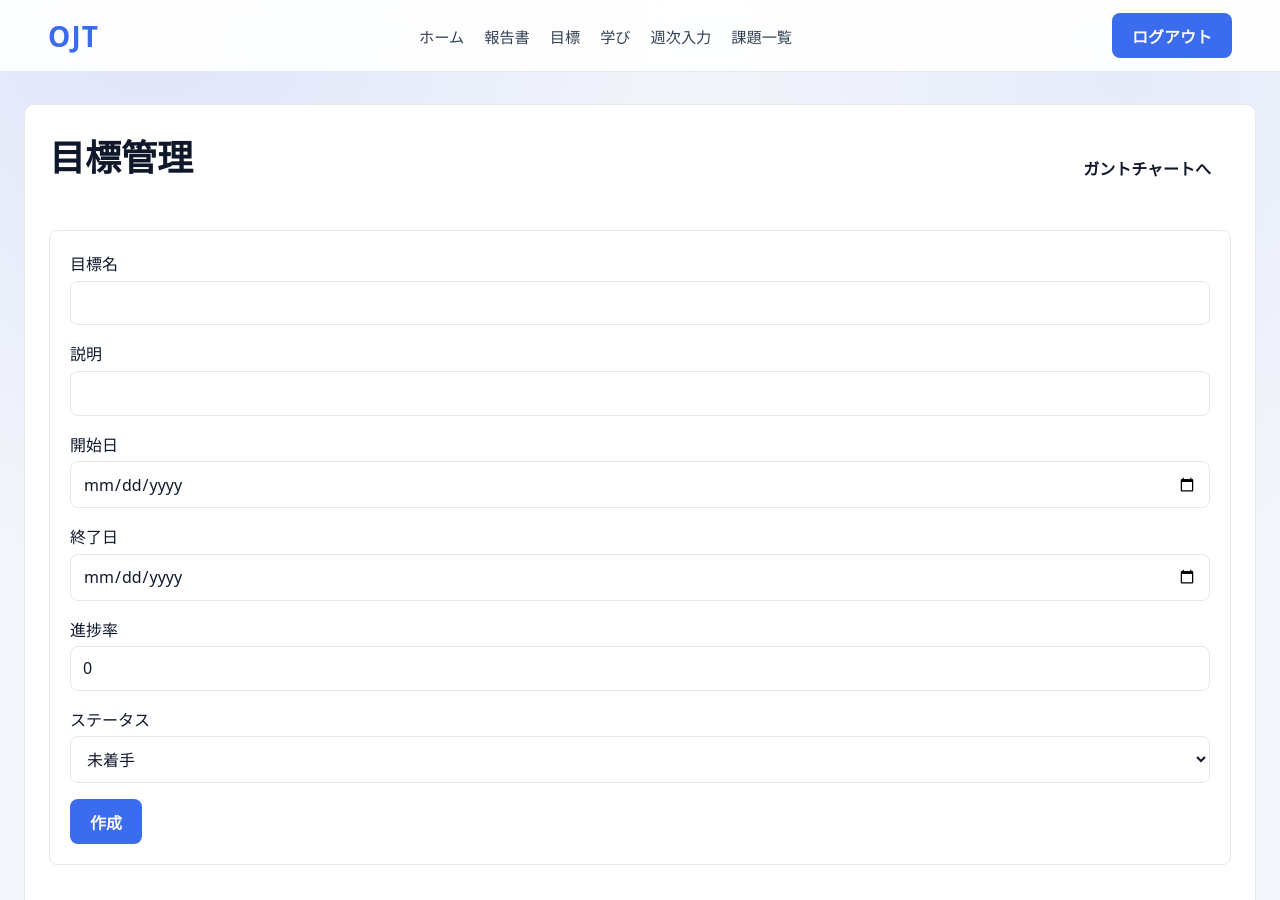
Scenario: 目標 UI › U-G32 新卒の管理画面での作成・変更 UI › 新卒が目標を作成すると成功フィードバックが出る
This screenshot has width=1280, height=900.
Type "新卒作成目標" into the field labelled "目標名".
click(640, 303); type("新卒作成目標")  # box [70, 281, 1210, 325]
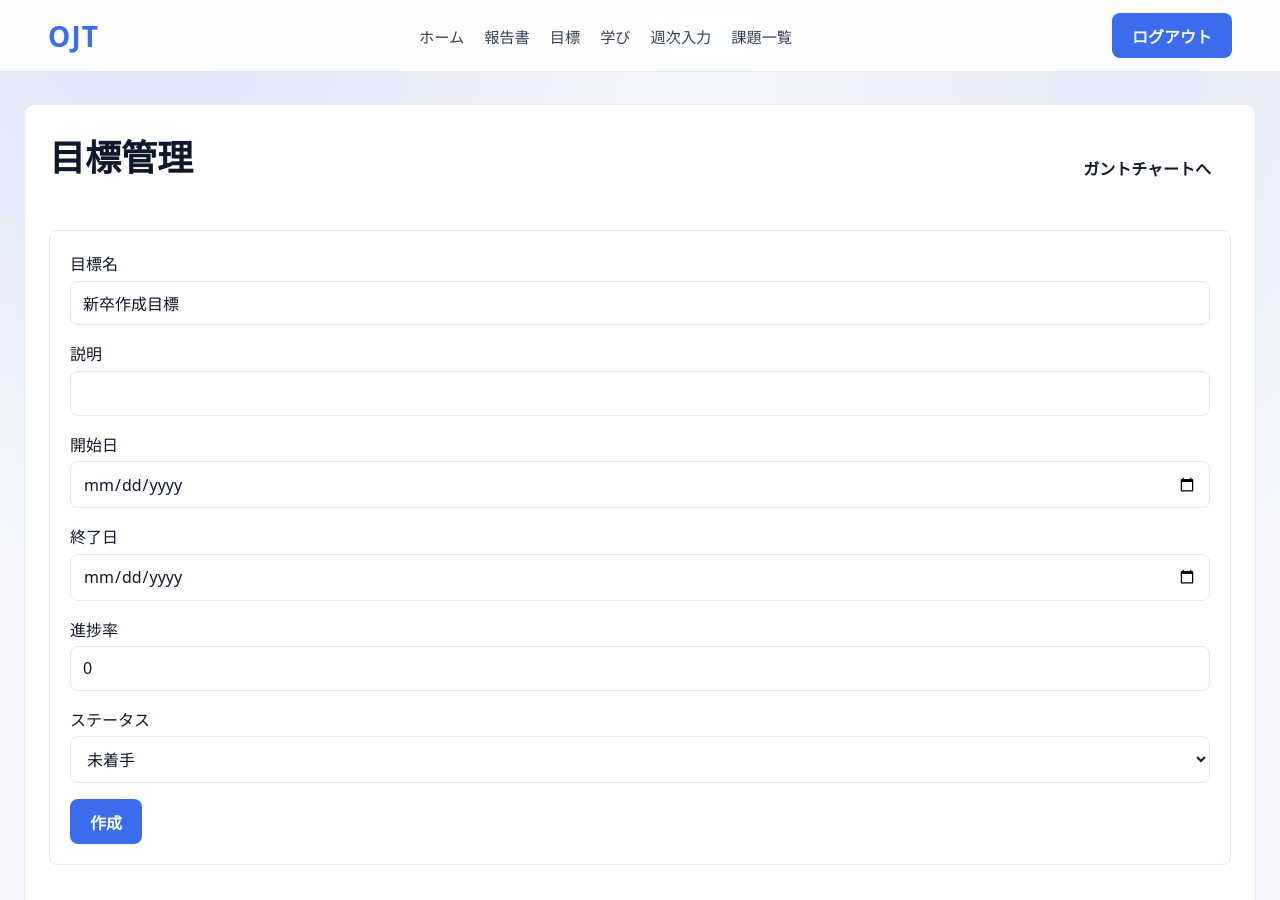
Type "2026-09-01" into the date field labelled "開始日".
click(640, 485); type("2026-09-01")  # box [70, 461, 1210, 508]
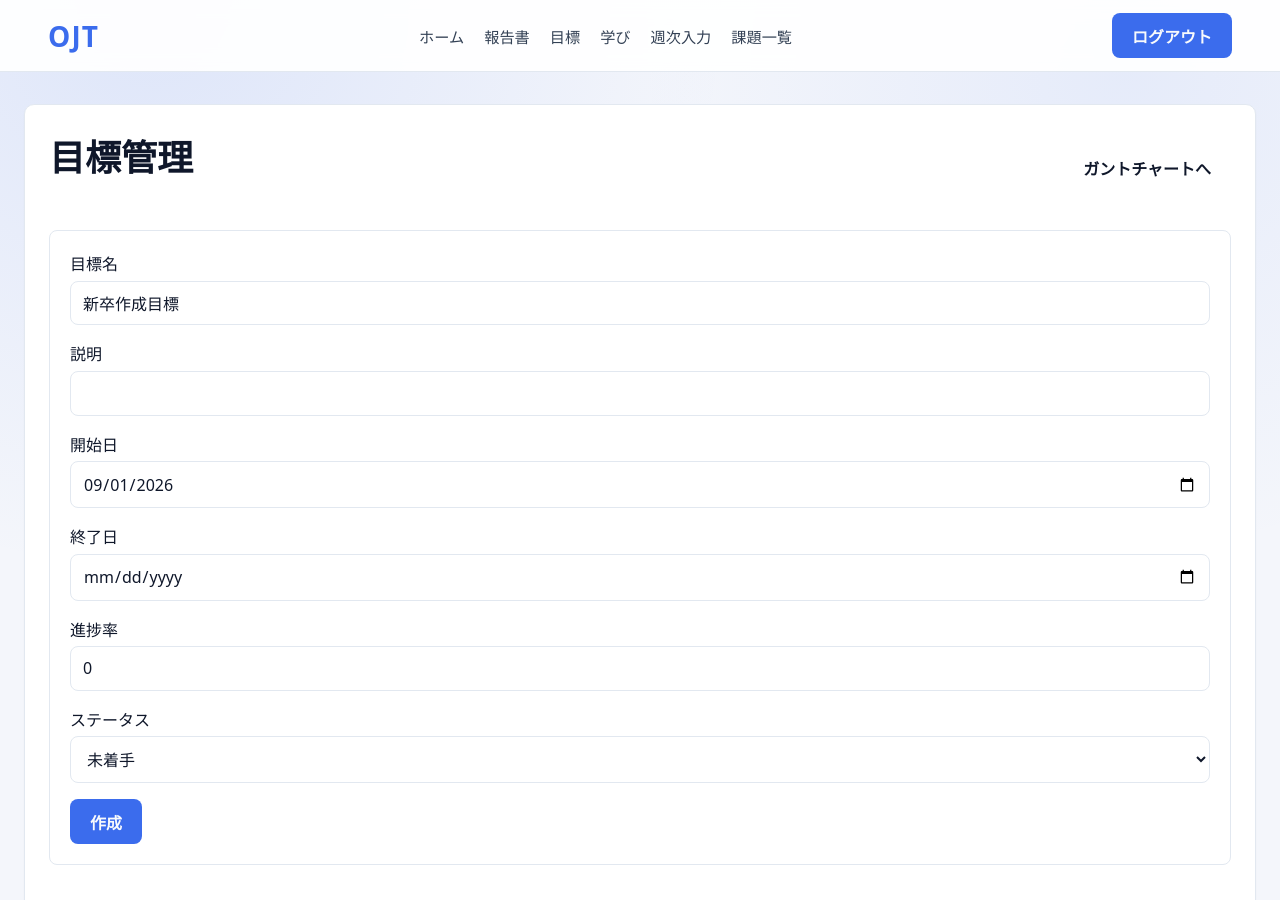
Type "2026-09-05" into the date field labelled "終了日".
click(640, 577); type("2026-09-05")  # box [70, 554, 1210, 600]
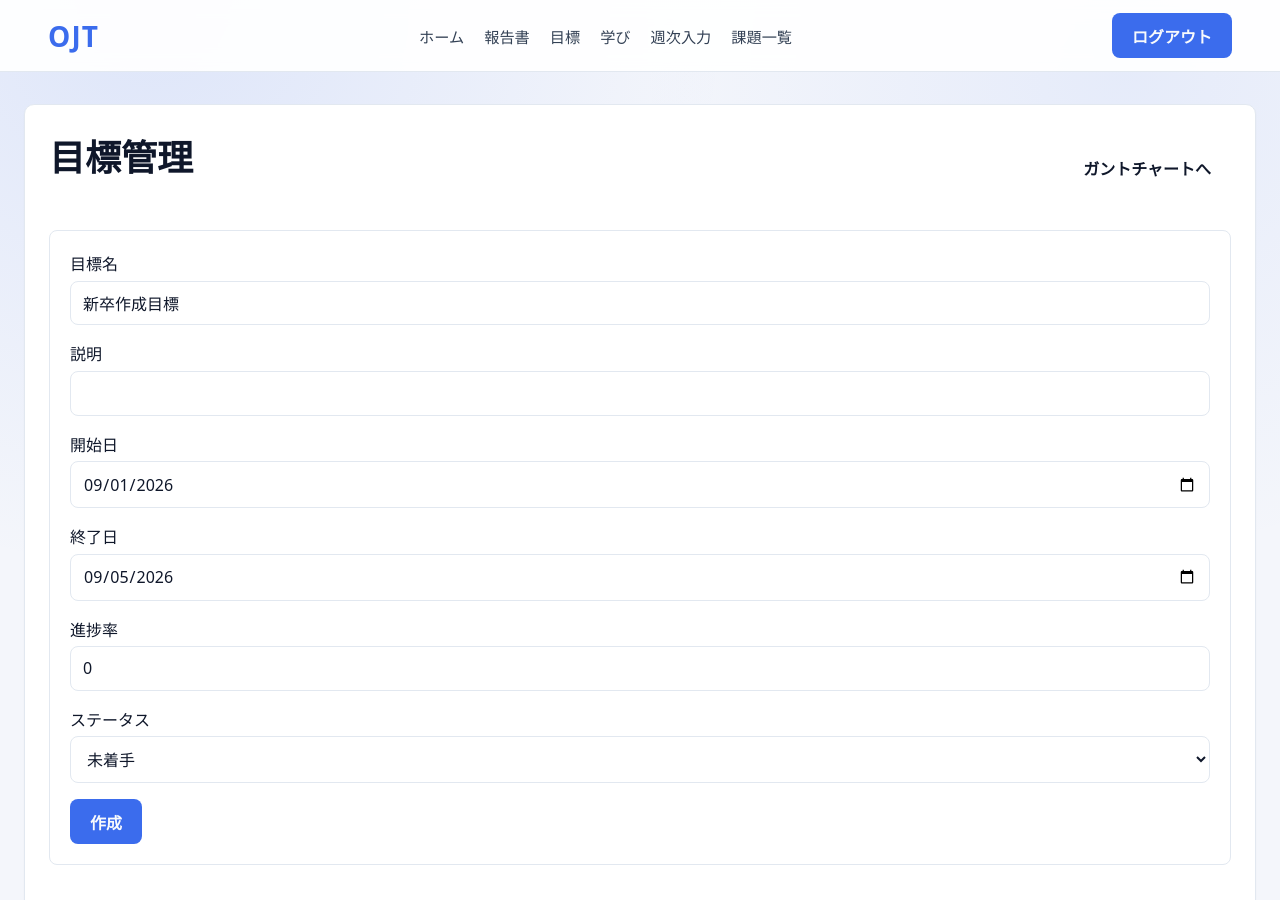
Replace the text in the number field labelled "進捗率" with "40" at (640, 668), box [70, 646, 1210, 691]
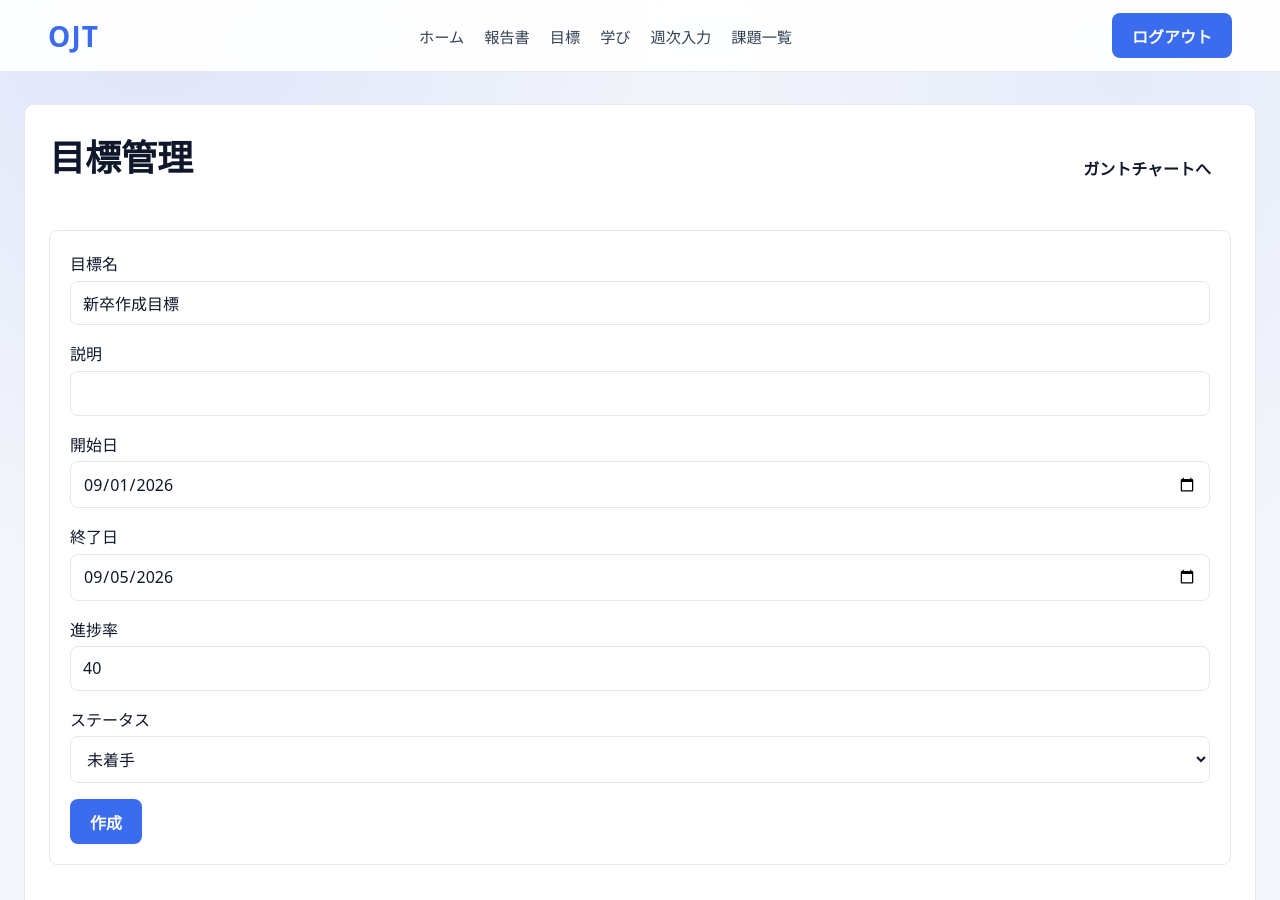
Select "進行中" in the dropdown labelled "ステータス" at (640, 760), box [70, 736, 1210, 783]
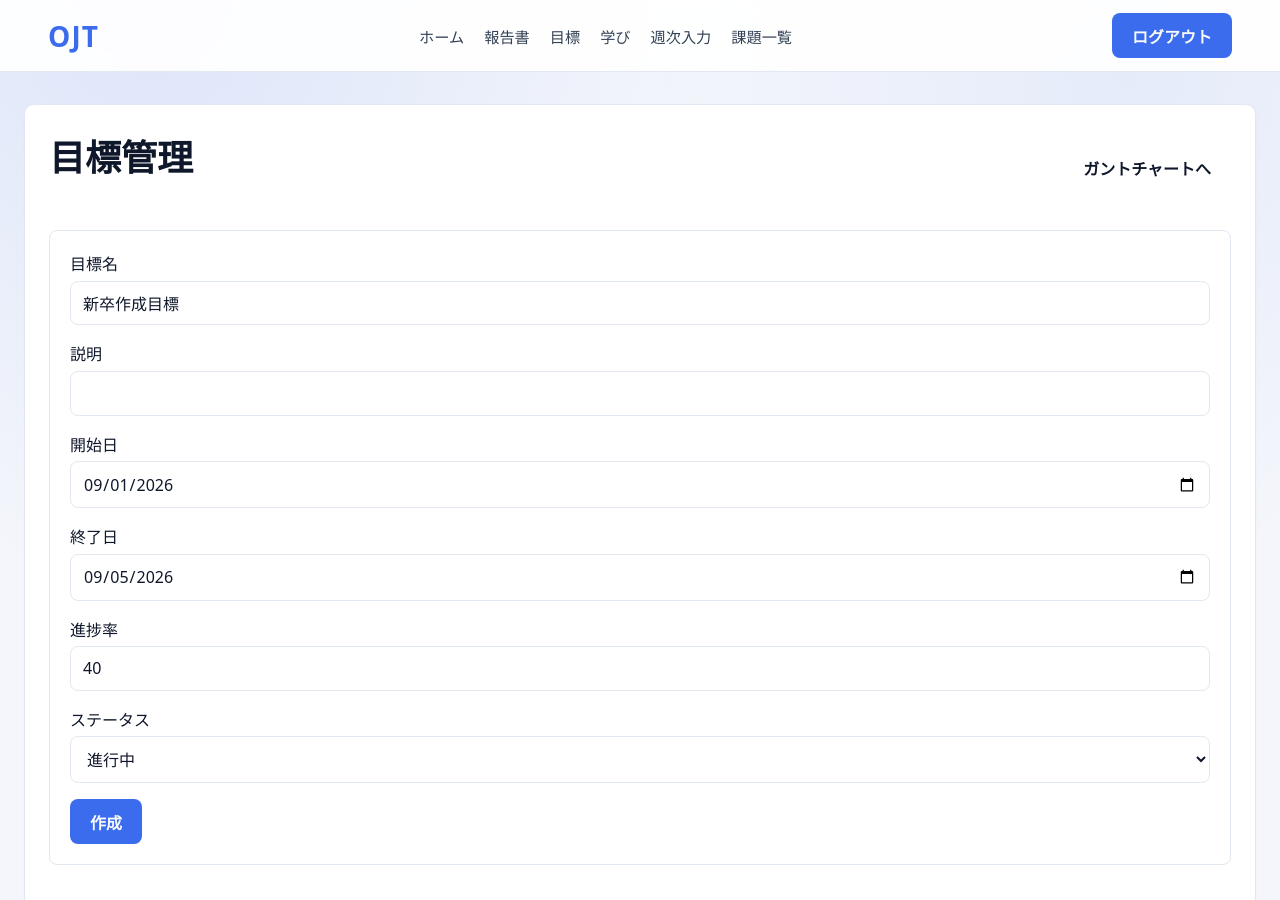
Submit the form named "目標作成"
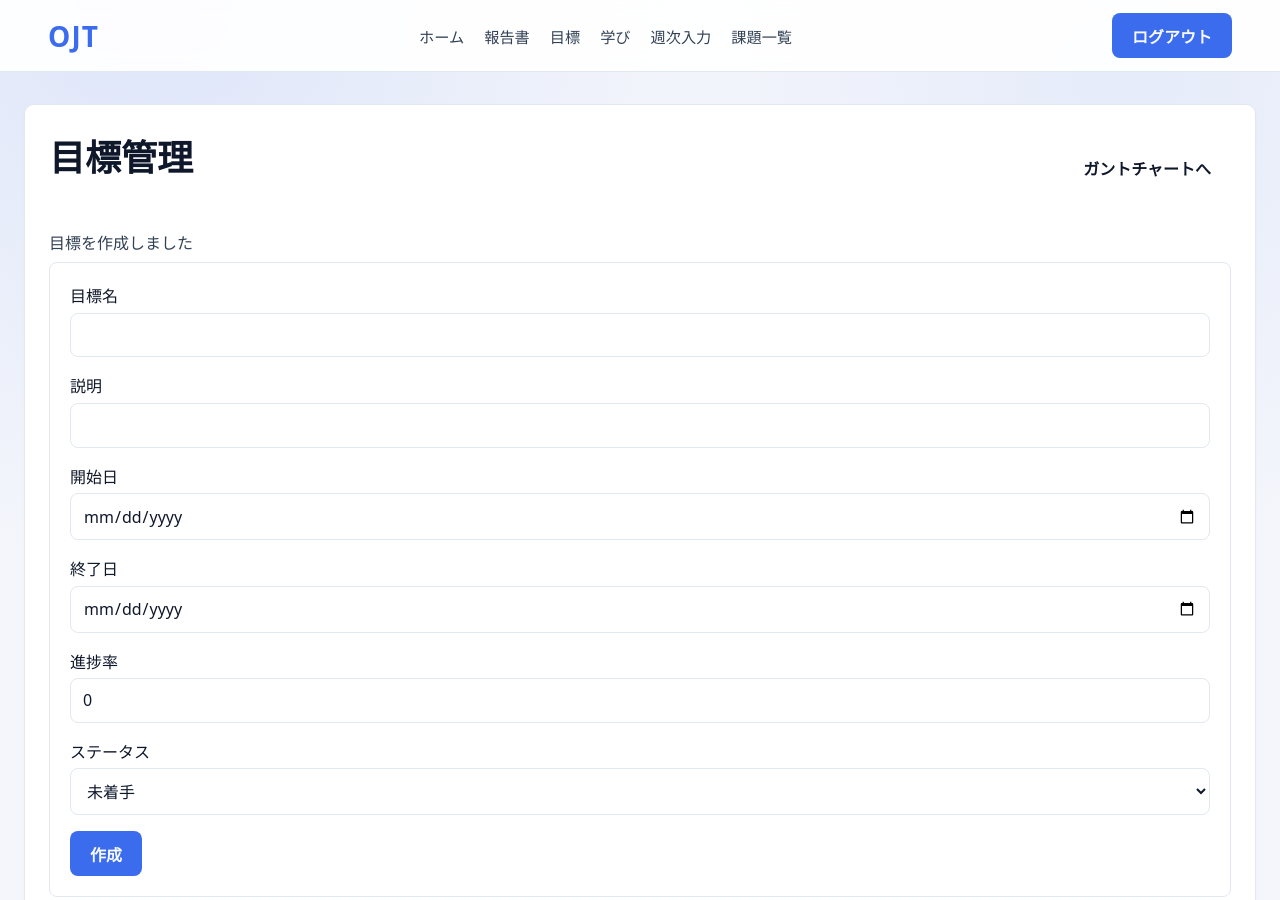
Now the message "目標を作成しました" is shown, box [49, 232, 193, 254]
